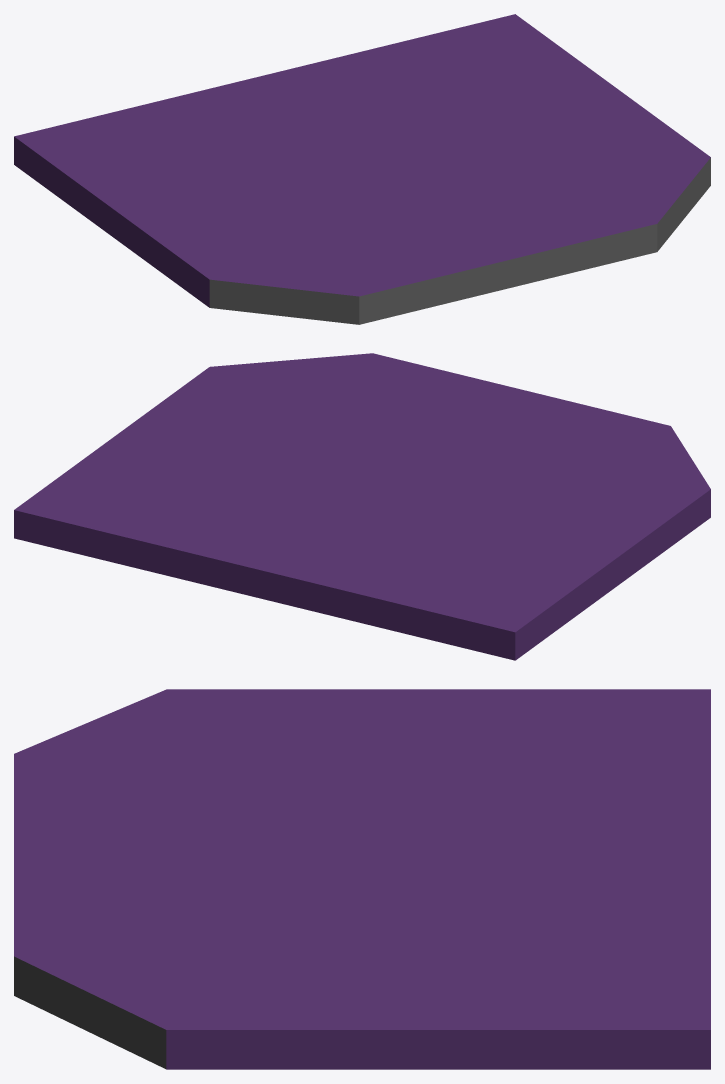
The model's file is Structure_Floor_NarcoOffice_fbx_v01.fbx.
3 renders of one model, top to bottom at view 1: azimuth 30°, elevation 25°; view 2: azimuth 150°, elevation 25°; view 3: azimuth 270°, elevation 25°, orthographic. The views are drawn at different scales.
Parts seen in each view (by area): view 1: NarcoFloor; view 2: NarcoFloor; view 3: NarcoFloor.
Part boxes in pixels (left/top/right/bottom): NarcoFloor: left=14, top=14, right=710, bottom=324; NarcoFloor: left=14, top=353, right=710, bottom=660; NarcoFloor: left=14, top=689, right=710, bottom=1069.
Size of the model in its own units: 1850 by 100 by 1600.
